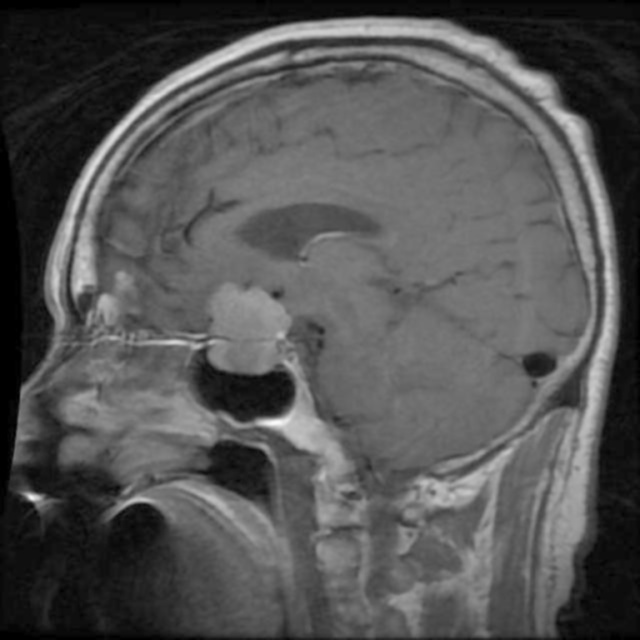no tumor: (199, 285, 296, 379)
